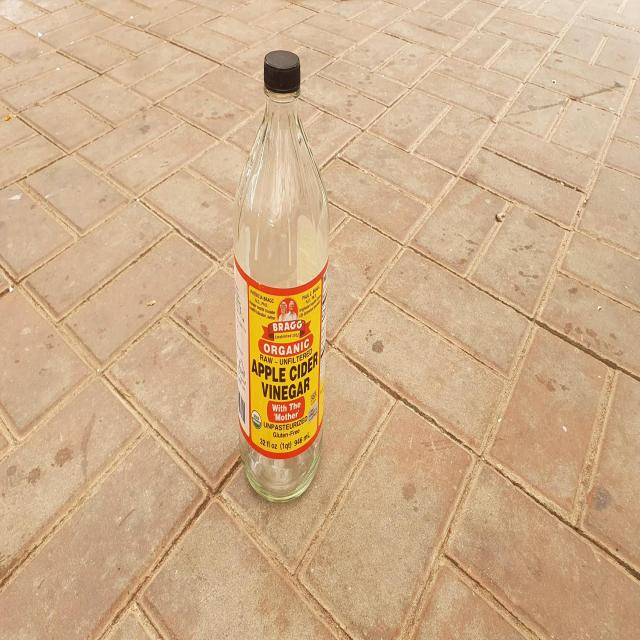glass: (234, 50, 329, 501)
